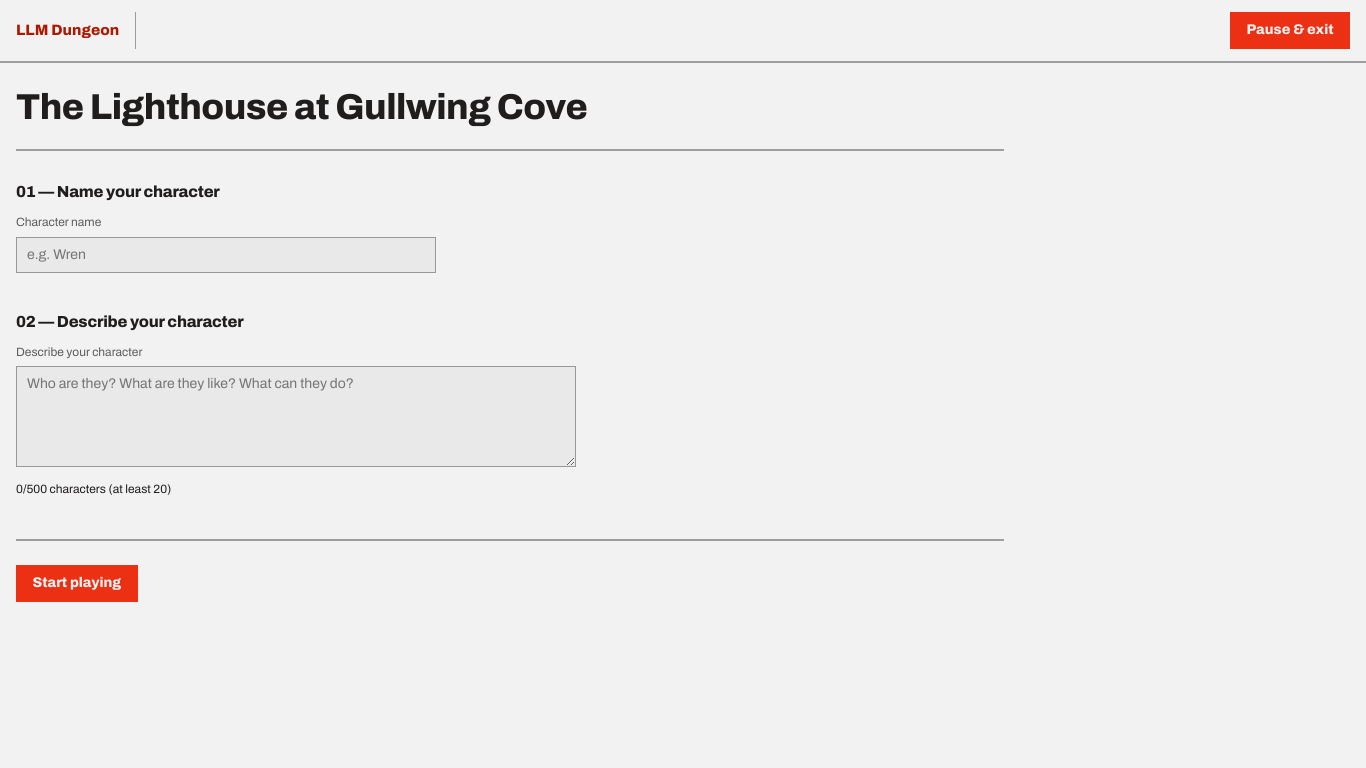
Scenario: Pause and exit lands the player on Home (#346) › goes to Home from a freshly created session too, not back to the setup form
This screenshot has width=1366, height=768.
Type "Bramble" into the field labelled "Character name". click: point(226, 255)
box: 16,237 -> 436,273
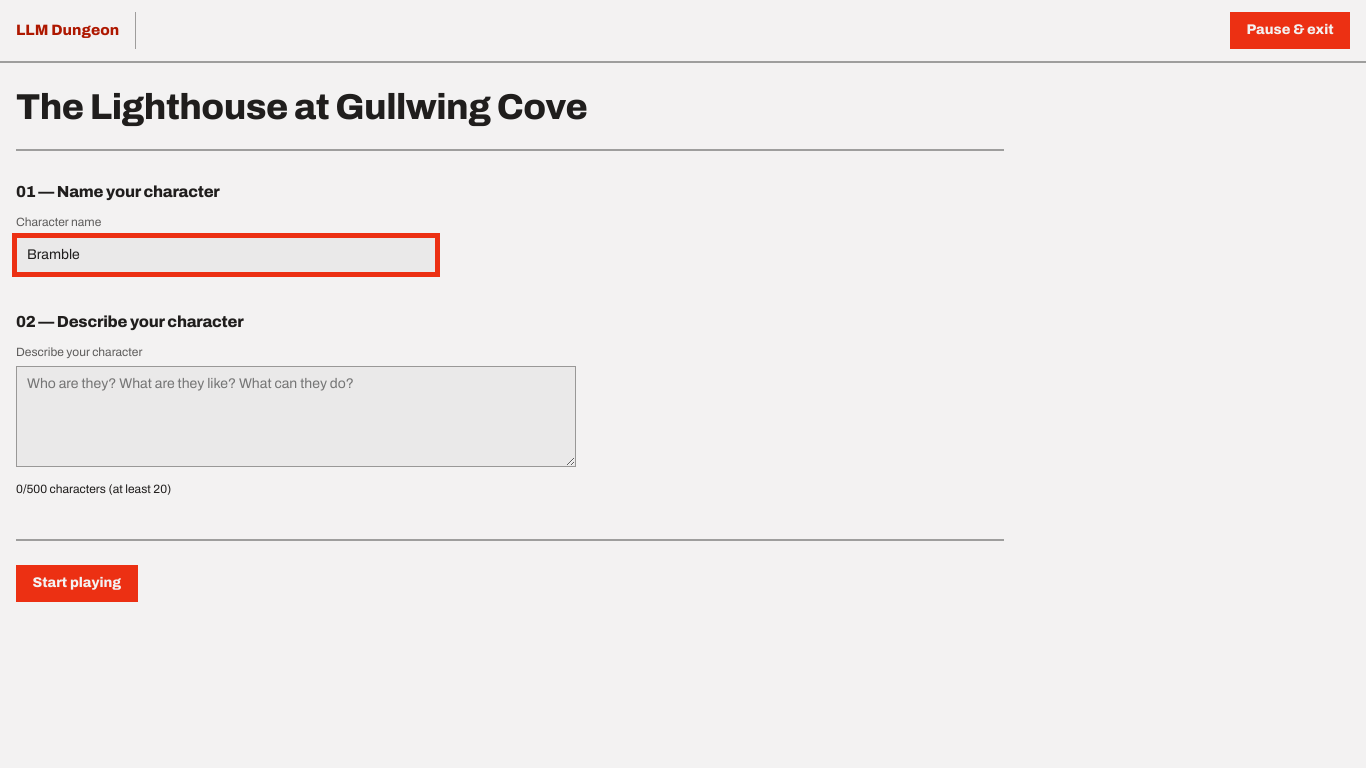
Type "A quick and quiet scout who misses nothing." into the text box labelled "Describe your character". click: point(296, 416)
box: 16,366 -> 576,467
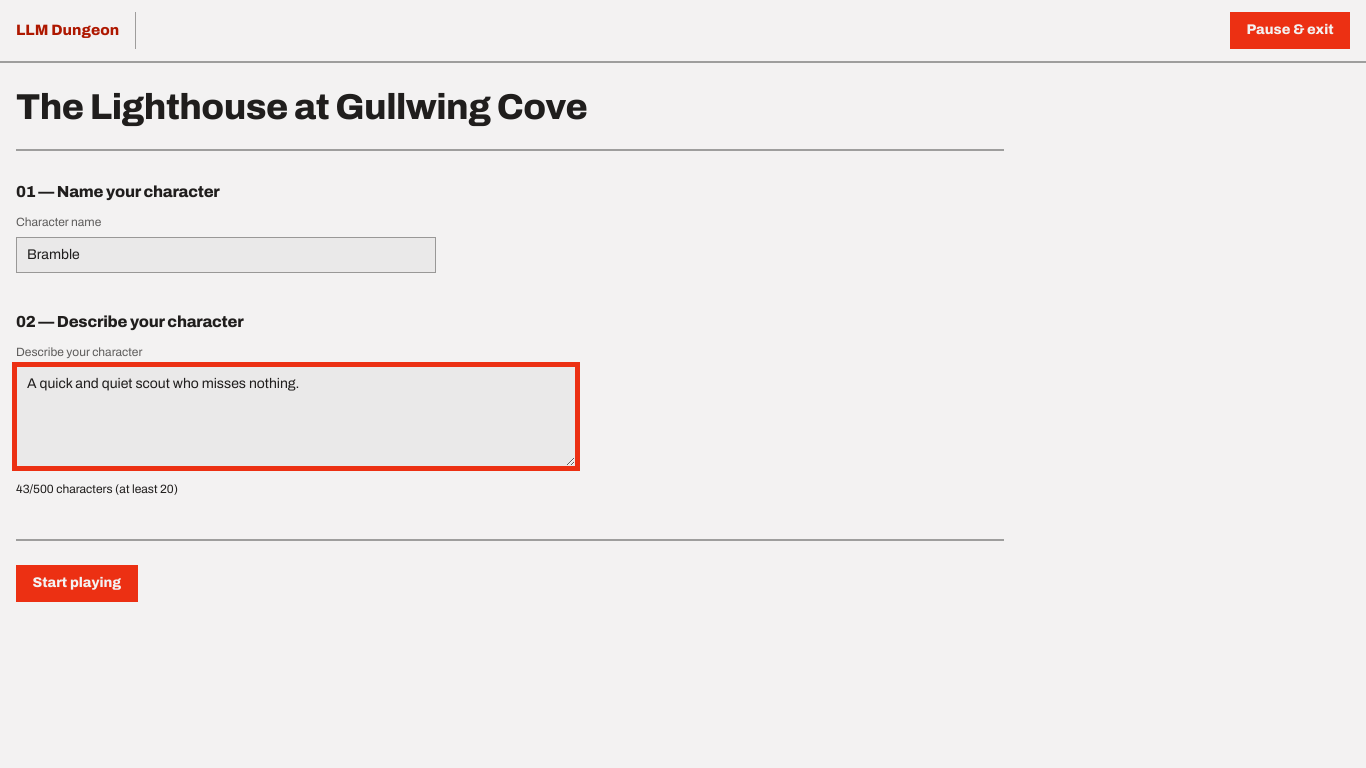
Click the button "Start playing". click: point(77, 583)
box: 16,565 -> 138,602
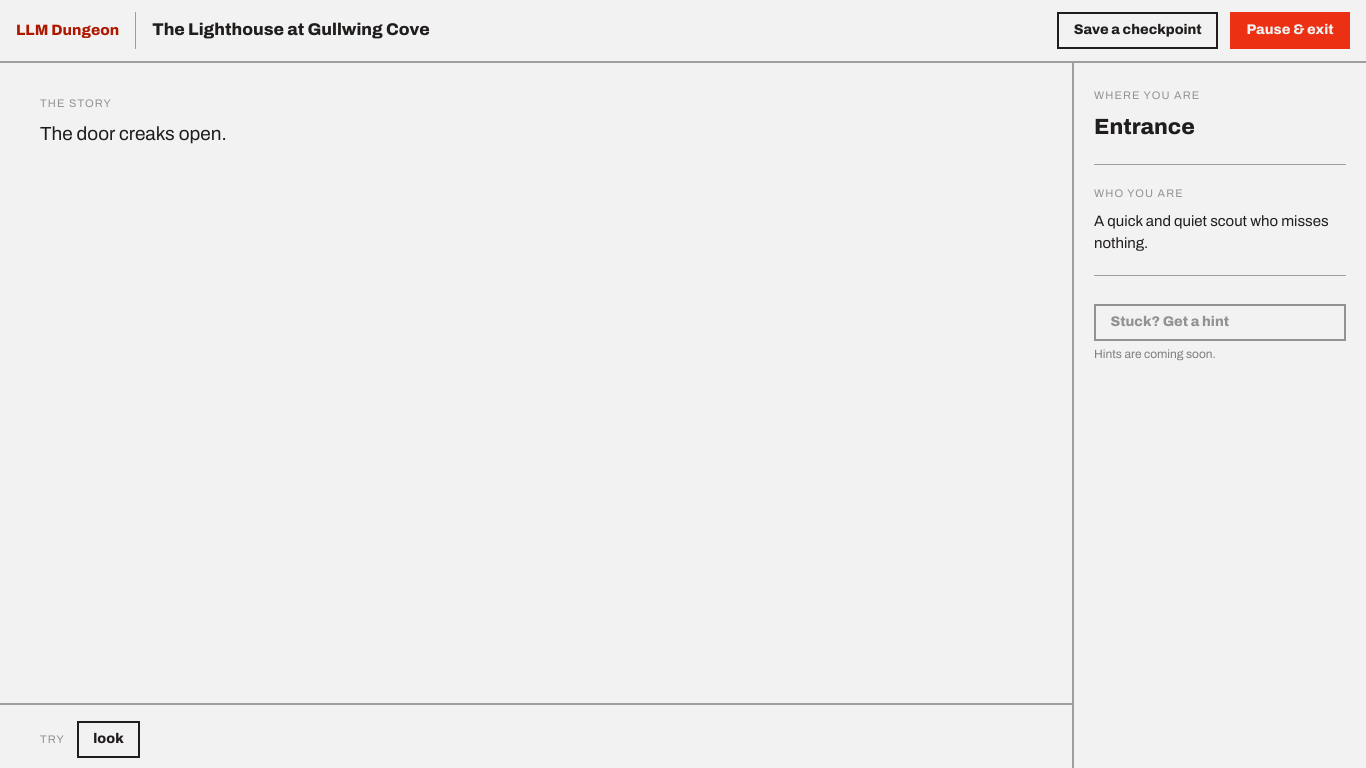
Now the text "The door creaks open." is shown, box 40,123 -> 227,144
Click the button "Pause & exit". click: point(1290, 30)
box: 1230,12 -> 1350,49
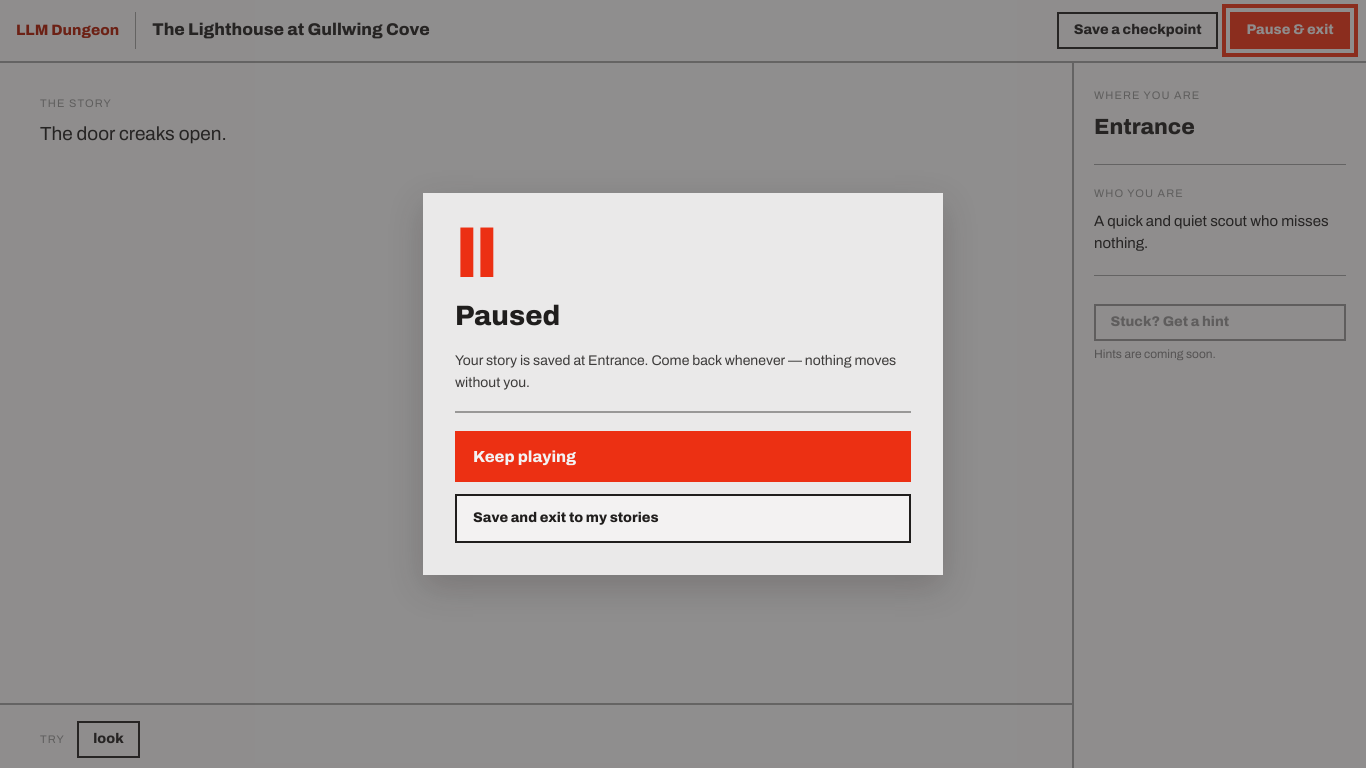
Click the button "Save and exit to my stories". click: point(566, 518)
box: 455,494 -> 911,543
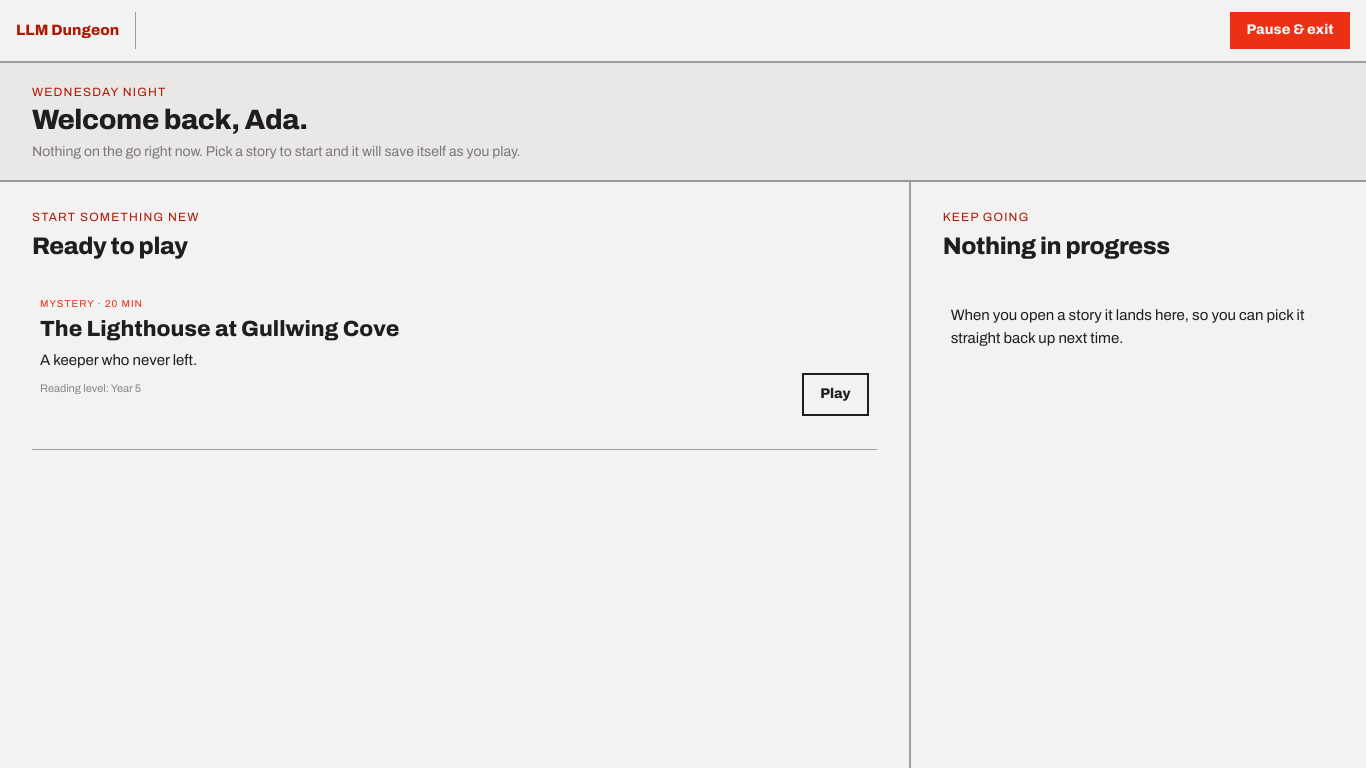
Expected: the button "Start playing" is not shown
Now the heading "Ready to play" is shown, box 32,233 -> 188,259
